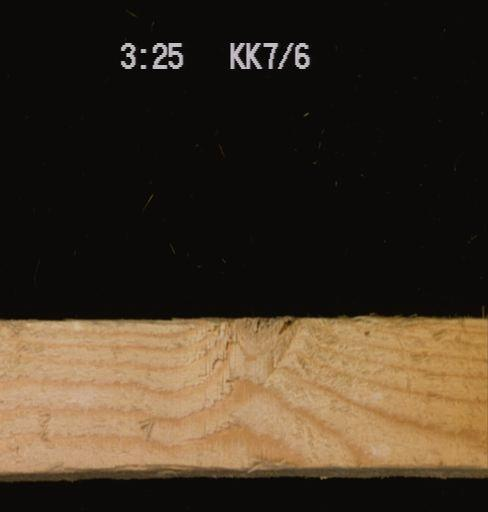edge_knot: (209, 316, 307, 374)
